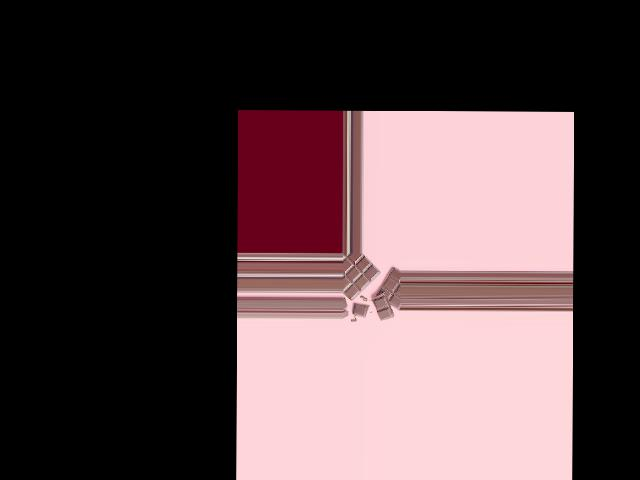chocolate: (342, 252, 397, 316)
